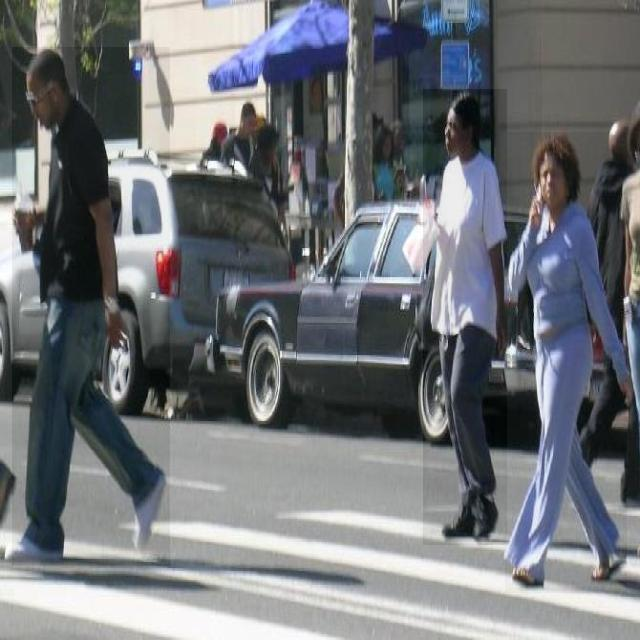with scooter: (12, 47, 170, 566), (505, 132, 627, 593), (423, 89, 507, 545)
